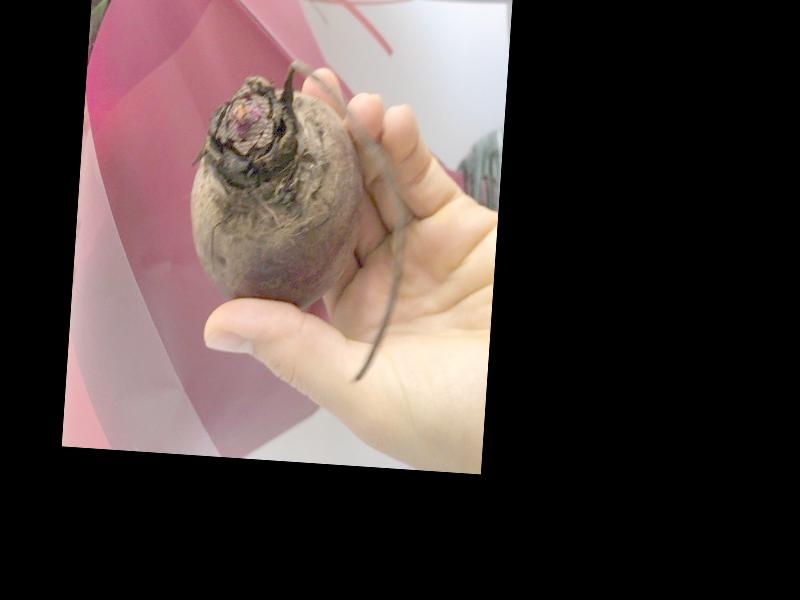Beet: (179, 51, 415, 385)
